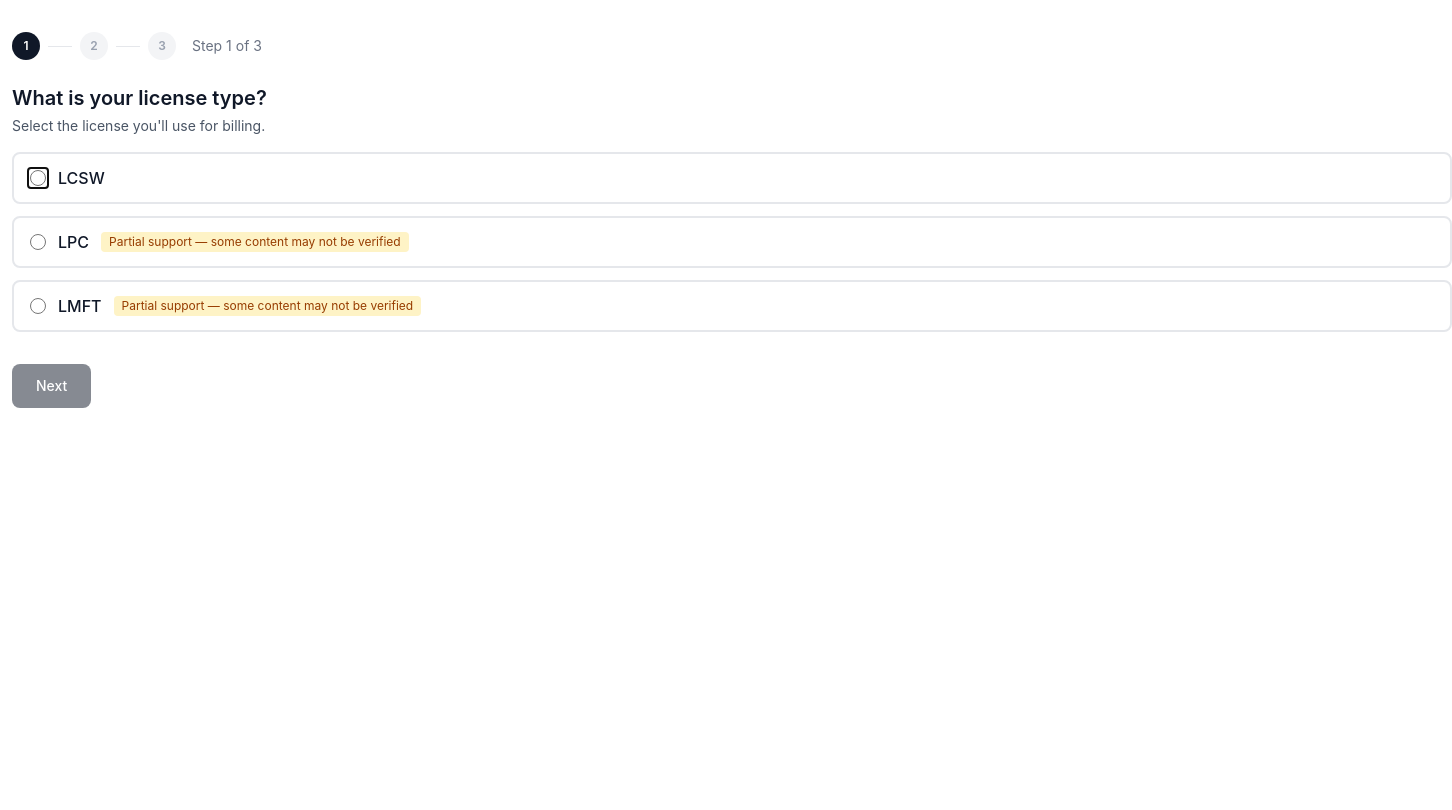
it: IntakeForm › shows selected count in step 2
Click the radio button labelled "LCSW".
click(38, 178)  # box [30,170,46,186]
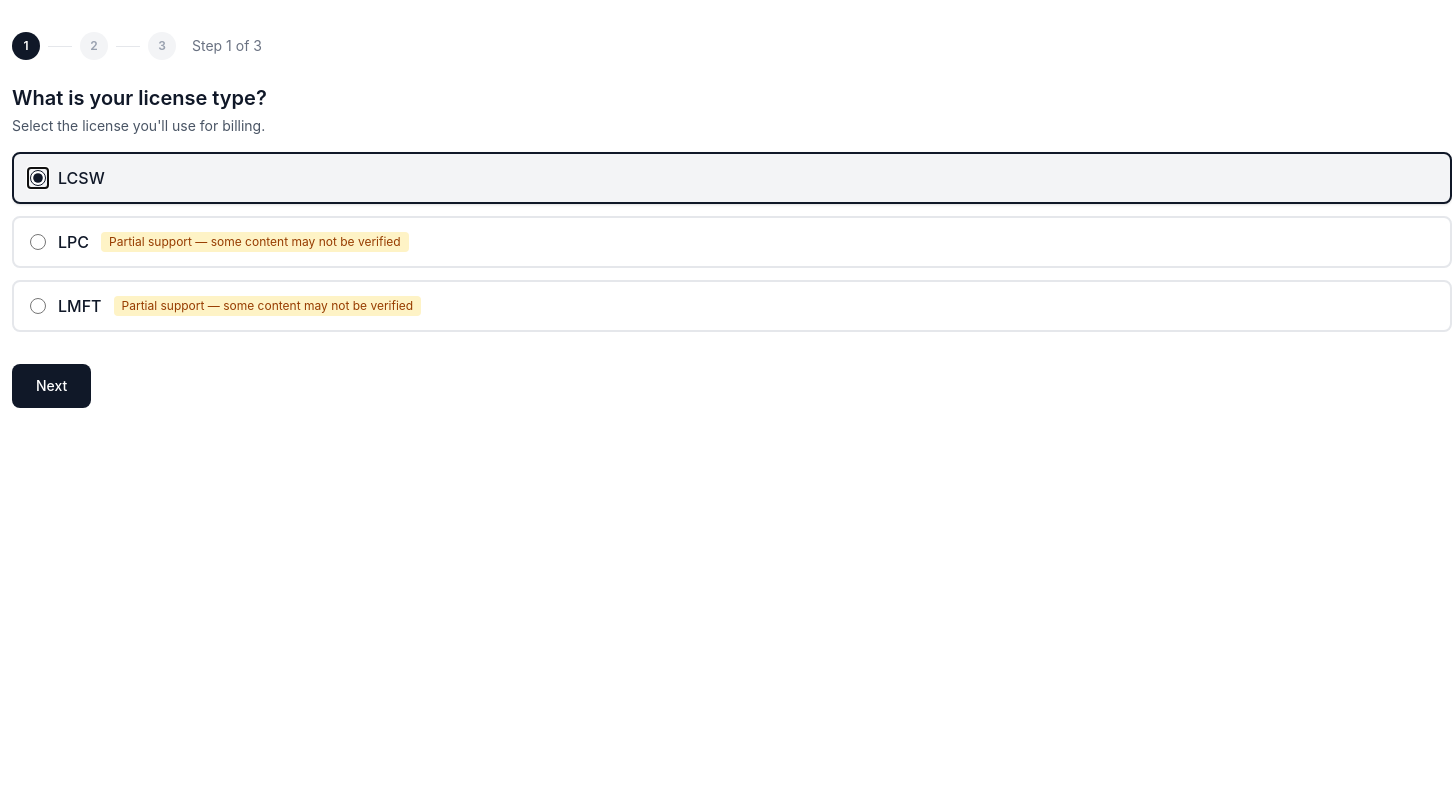
Click the button "Next".
click(52, 386)  # box [12,364,91,408]
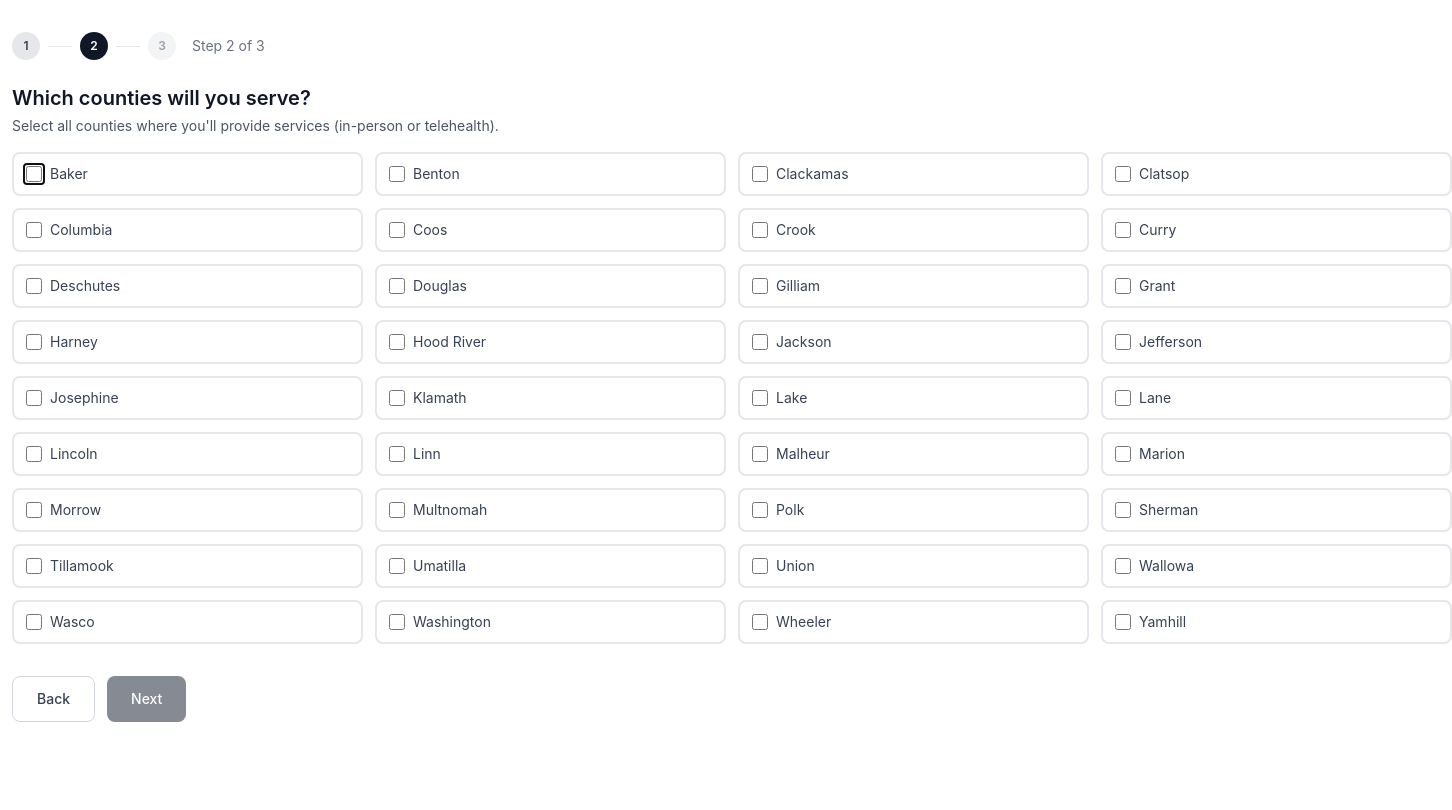
Click the checkbox labelled "Baker".
click(34, 174)  # box [26,166,42,182]
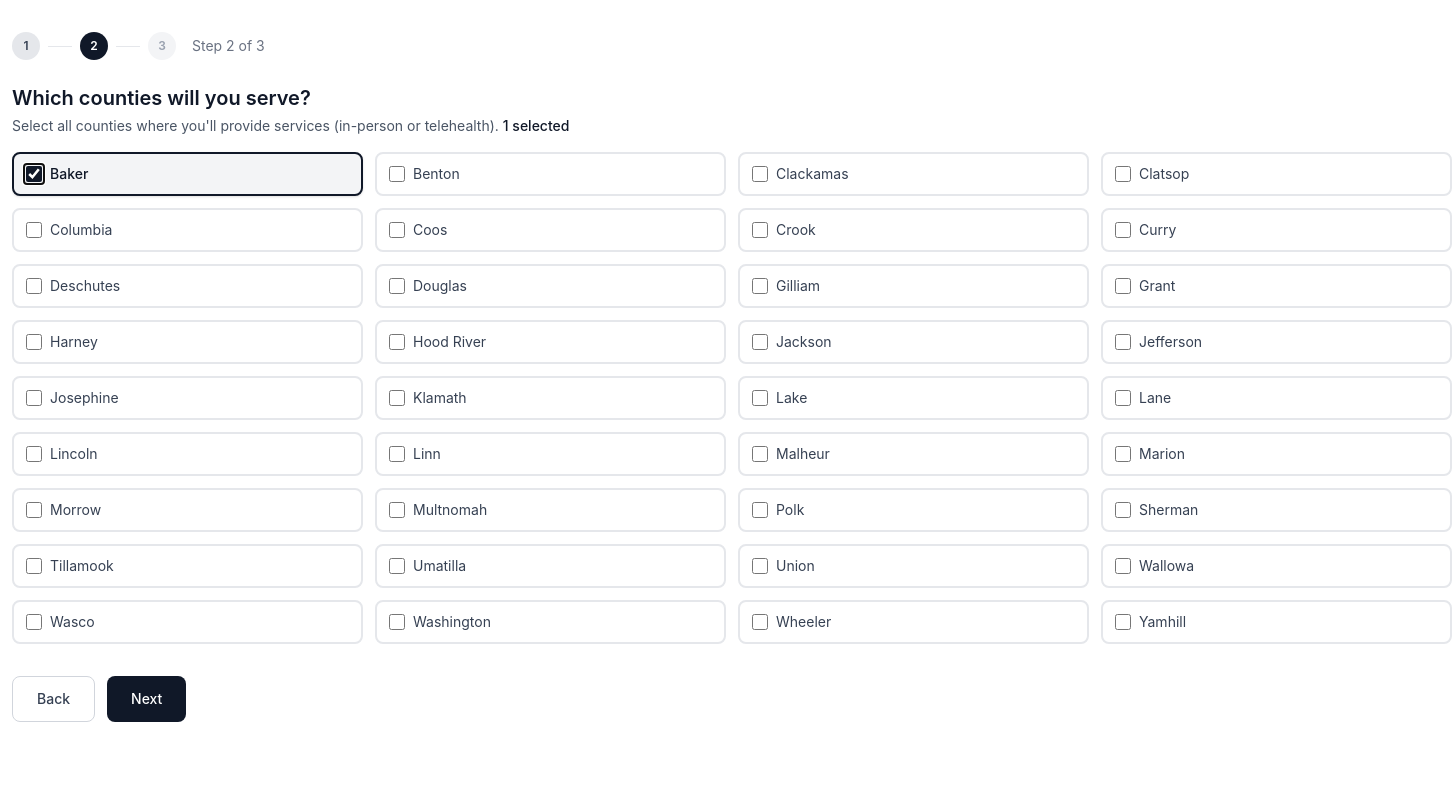
Expected: the text "1 selected" is shown, [503,117,570,134]
